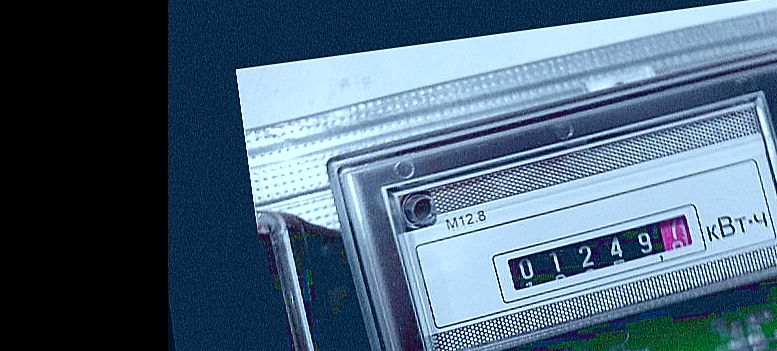0: (513, 253, 536, 281)
1: (545, 248, 563, 275)
2: (574, 241, 598, 270)
4: (605, 231, 627, 260)
7: (664, 216, 682, 241)
9: (634, 227, 655, 255)
screen: (482, 203, 723, 308)
